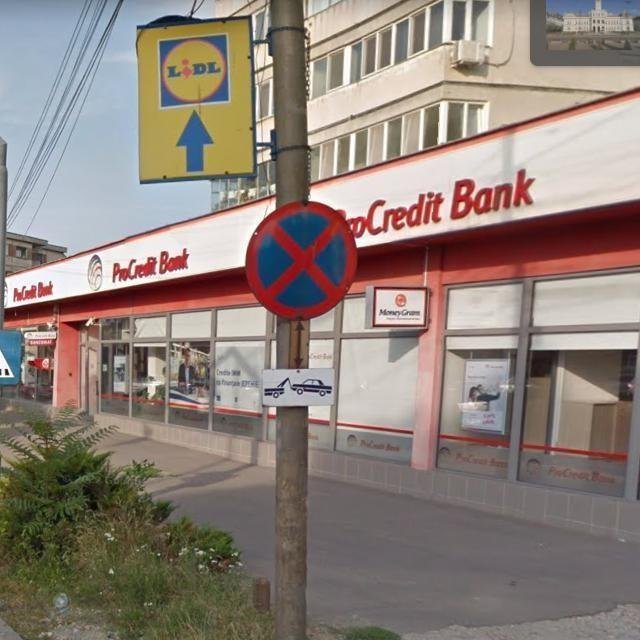forb_waiting: (244, 200, 358, 320)
